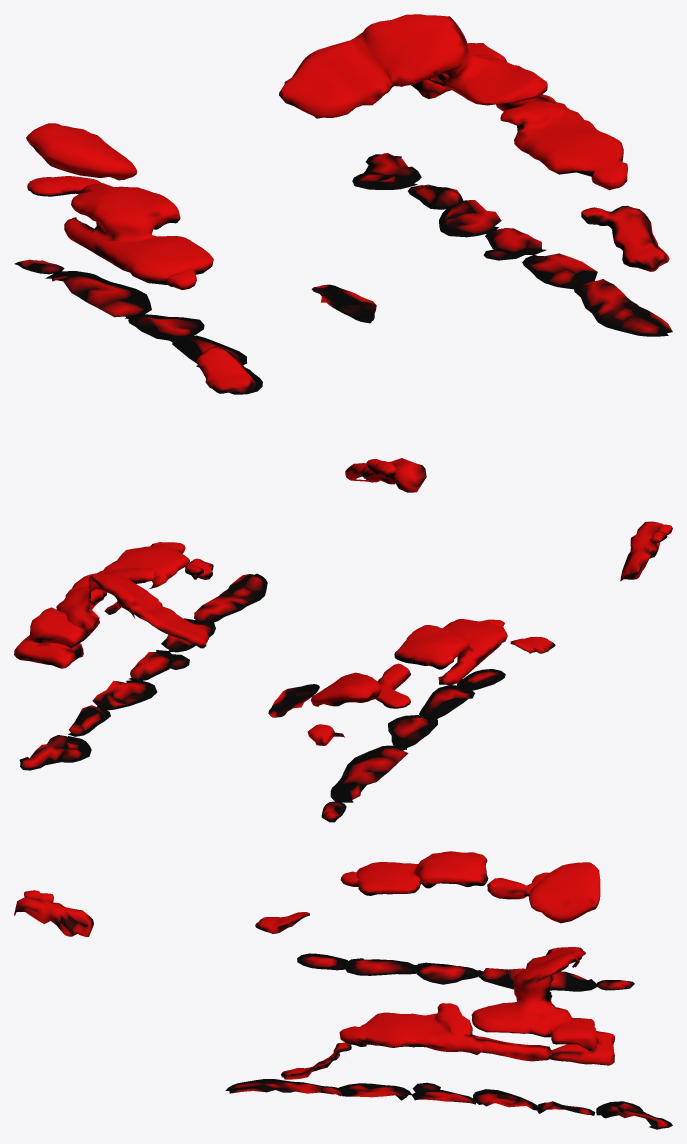
File: Snow_001__Mt_Snow_SnowPowder_A.fbx
3 views of the same model, one above another, from view 1: azimuth 30°, elevation 25°; view 2: azimuth 150°, elevation 25°; view 3: azimuth 270°, elevation 25° (orthographic). The views are drawn at different scales.
Parts seen in each view (by area): view 1: null2; view 2: null2; view 3: null2.
Part boxes in pixels (<box>): null2: <box>14,14,672,492</box>; null2: <box>14,521,672,822</box>; null2: <box>14,851,672,1129</box>.
Size of the model in its own units: 4705 by 1828 by 7227.
